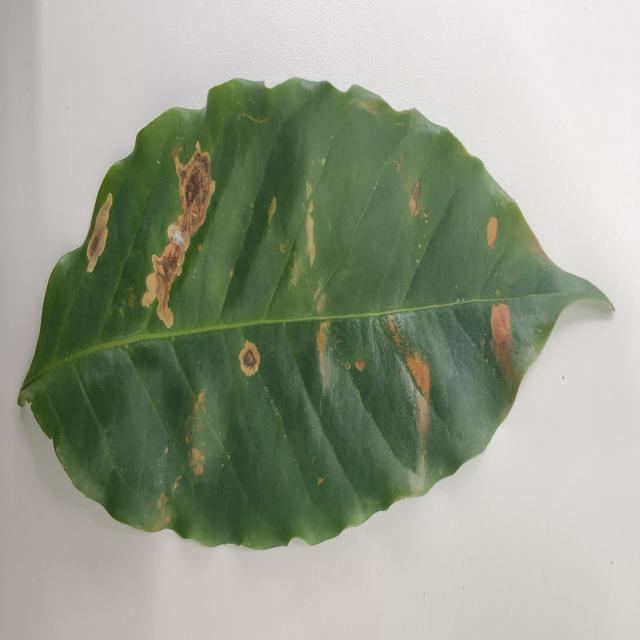Plaga-Minador: (16, 79, 613, 553)
